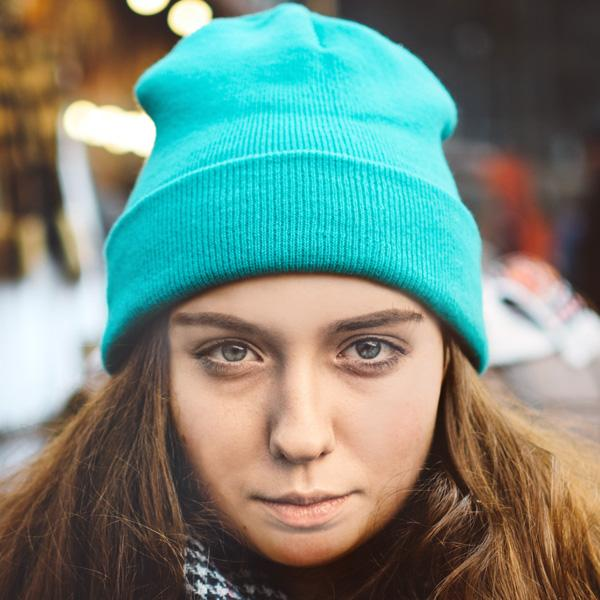Eyes: (321, 323, 412, 378), (185, 324, 274, 378)
